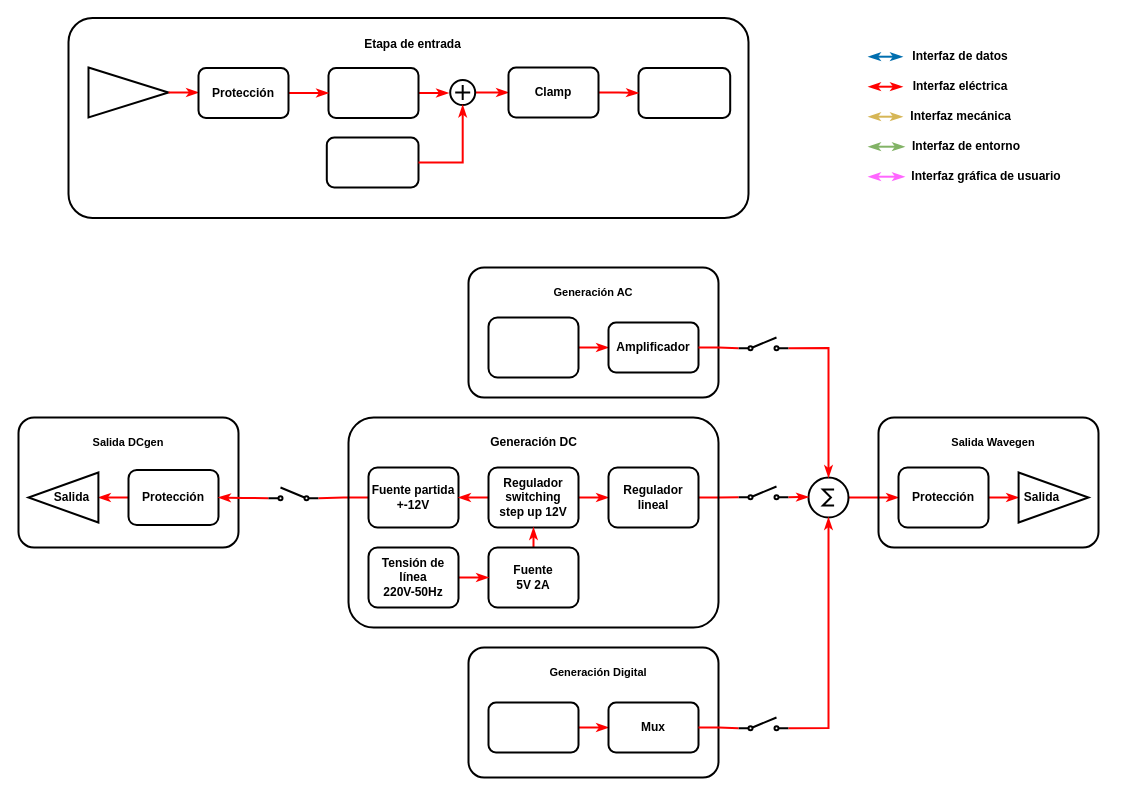
Some shapes in this 1125 by 796 pixel diagram are drawn without their labels. Here are the shapes that lost their labels. From the top down, the centre of each, then its label:
At [128,92]: "Entrada".
At [373,92]: "Atenuador".
At [684,92]: "ADC ESP-32".
At [372,162]: "Nivel de continua".
At [533,347]: "Generador de señal".
At [533,727]: "ESP-32".
